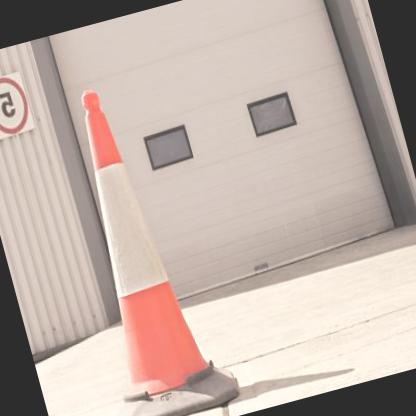cone: (20, 70, 246, 415)
